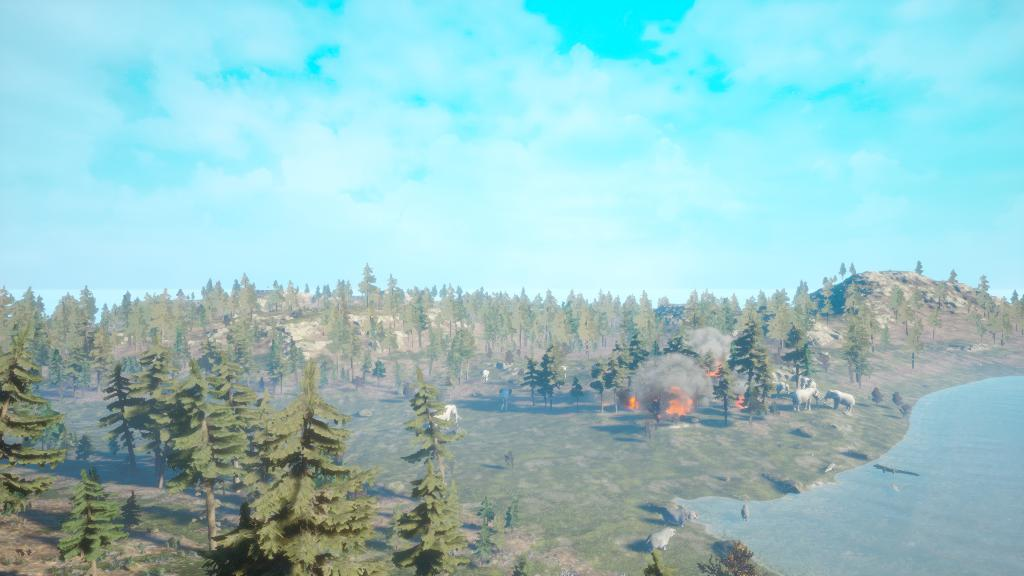Fire: (653, 386, 697, 421), (619, 388, 644, 413), (702, 362, 728, 381), (731, 393, 753, 410)
crocodile: (869, 460, 928, 486), (812, 457, 851, 488)
elephant: (820, 381, 859, 424), (789, 383, 823, 420), (427, 402, 464, 434), (489, 386, 522, 411)
hippopotamus: (647, 502, 705, 532), (643, 526, 679, 556), (734, 500, 758, 528)
smoke: (648, 346, 711, 414), (685, 332, 742, 368)
